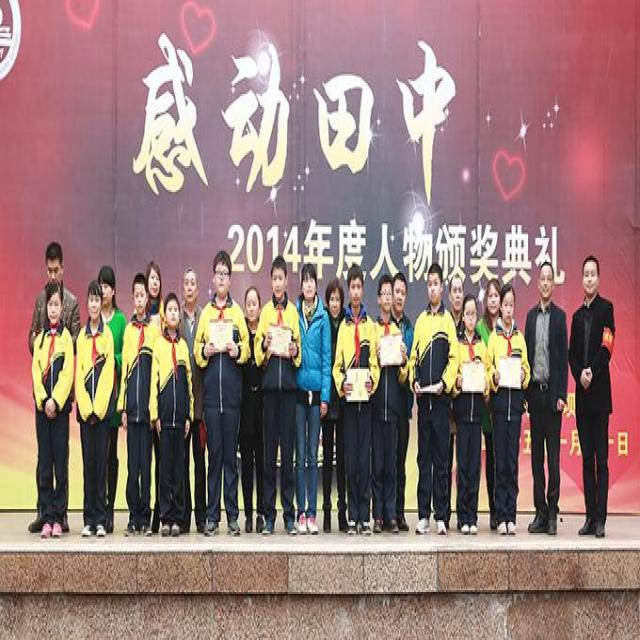non-fight: (250, 258, 314, 535), (192, 254, 249, 536), (408, 269, 467, 531), (564, 251, 617, 533), (66, 276, 123, 538), (331, 259, 381, 535), (120, 275, 168, 538), (524, 258, 569, 532), (367, 274, 413, 526), (148, 288, 194, 538), (31, 280, 75, 540), (294, 262, 332, 533), (489, 286, 527, 527), (455, 291, 491, 535)
